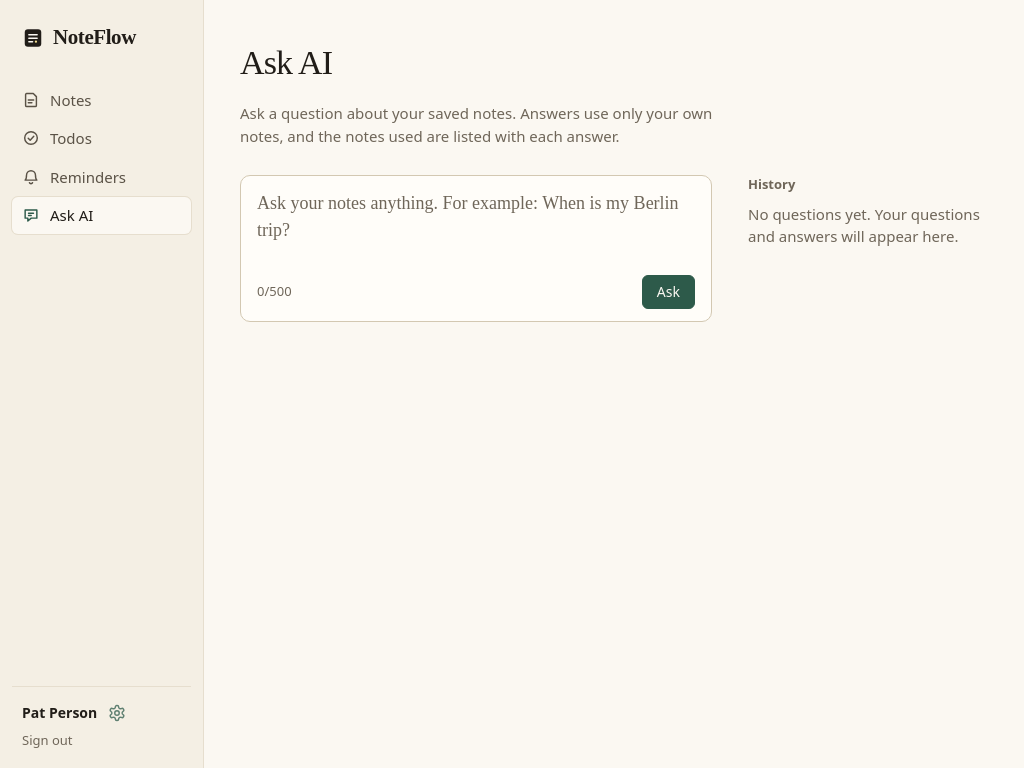
Test case: validation › clears the message once the user types again
Step 1. Click the button "Ask" → [668, 292], box [642,275,695,309]
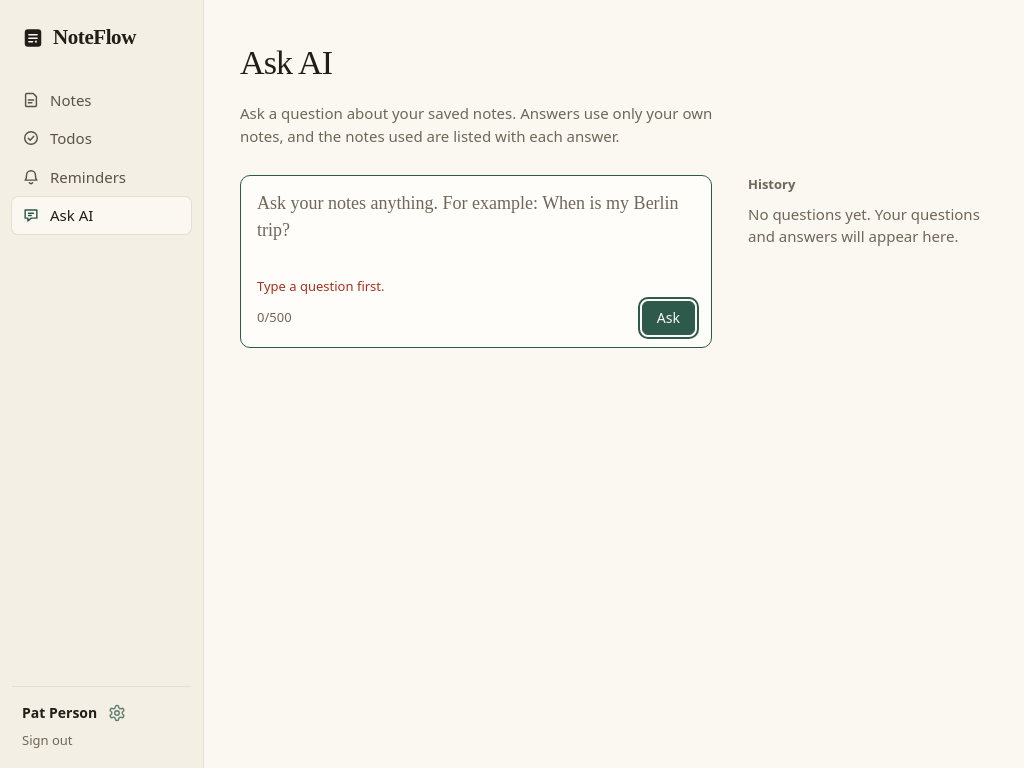
expect the text "Type a question first." is shown: met, box [257,277,384,295]
Step 2. Type "x" into the text box named "your question" → [476, 231], box [257,190,695,271]
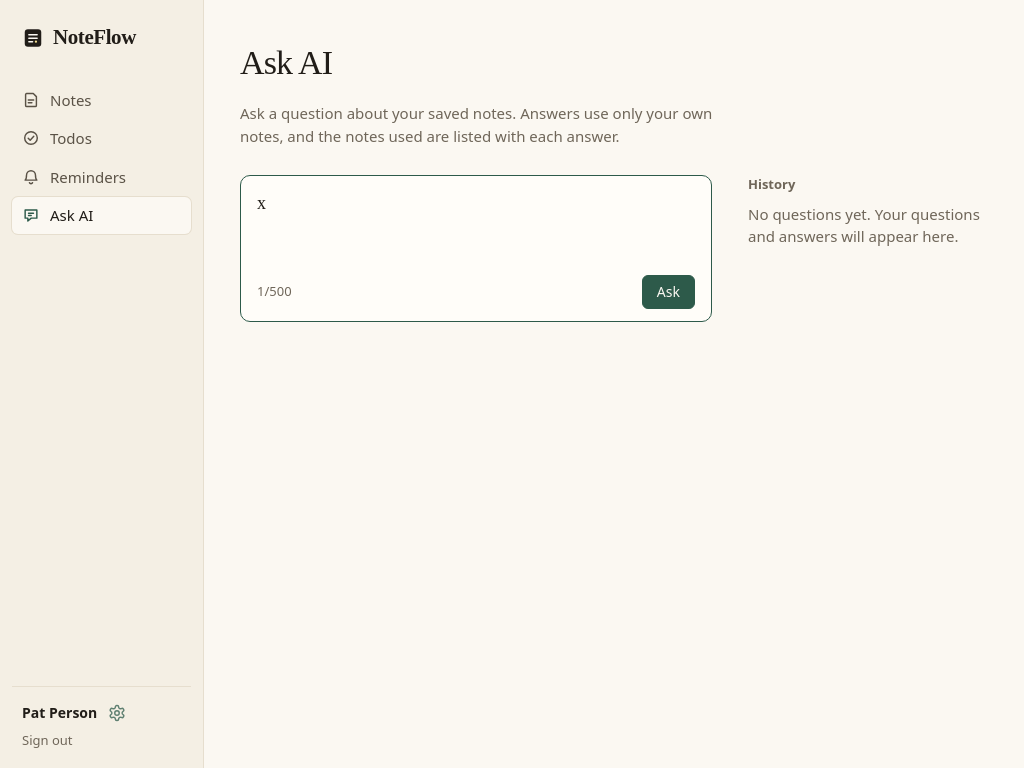
expect the text "Type a question first." is gone: met
